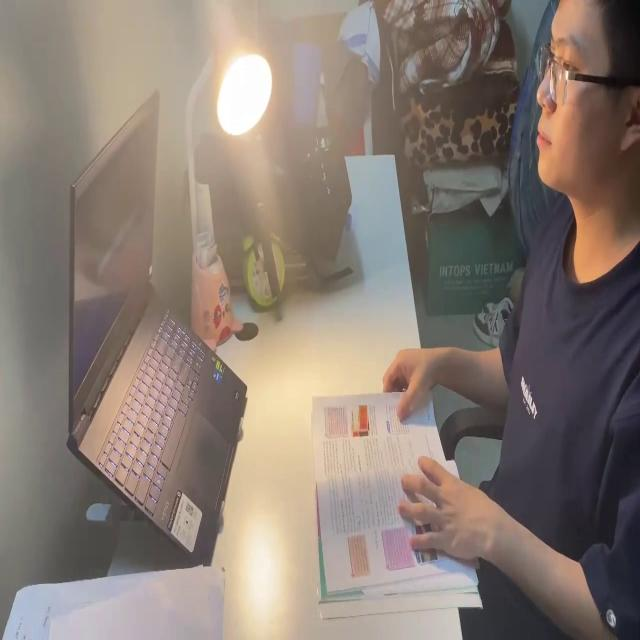book: (313, 371, 479, 617), (1, 562, 225, 640)
laptop: (62, 85, 250, 560)
student: (381, 0, 640, 640)
